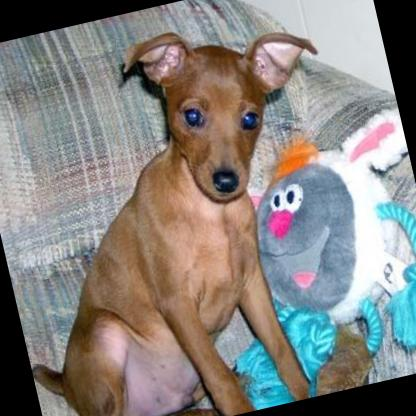miniature_pinscher: (0, 0, 392, 416)
